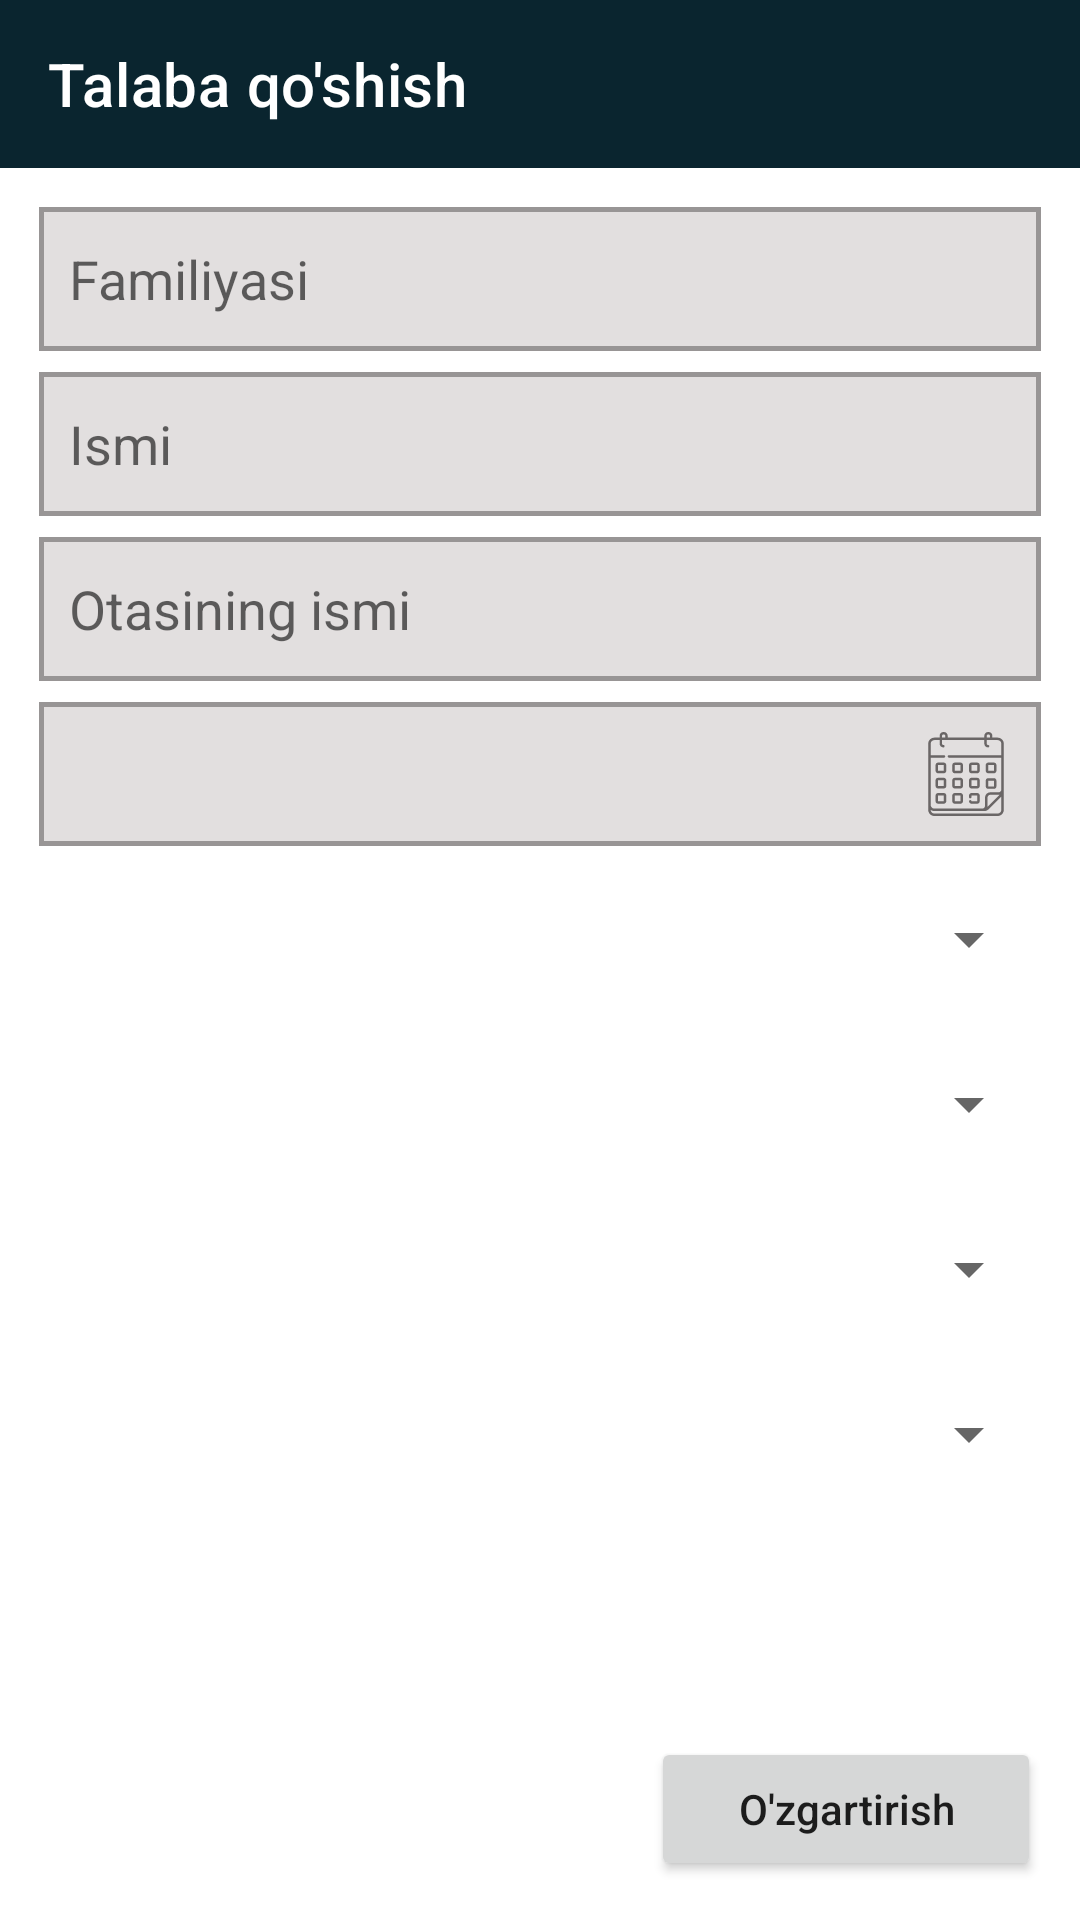

Point at icon controls on the screen. Image size 1080px x 1920px, points as point (x, y).
calendar: point (966, 774)
